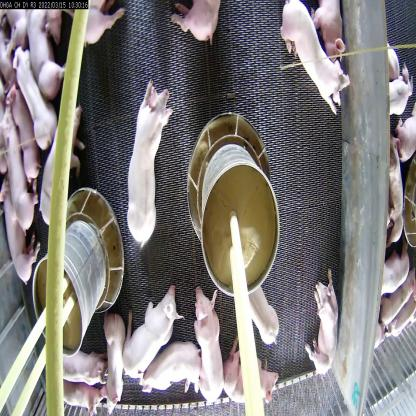Pig: (122, 86, 178, 252), (269, 0, 335, 109), (36, 104, 83, 227), (119, 290, 177, 377), (191, 283, 228, 403), (12, 53, 53, 150), (221, 342, 275, 409), (144, 334, 208, 388), (25, 0, 62, 93), (0, 104, 32, 210), (96, 310, 133, 397), (306, 262, 329, 372), (238, 287, 280, 347)
